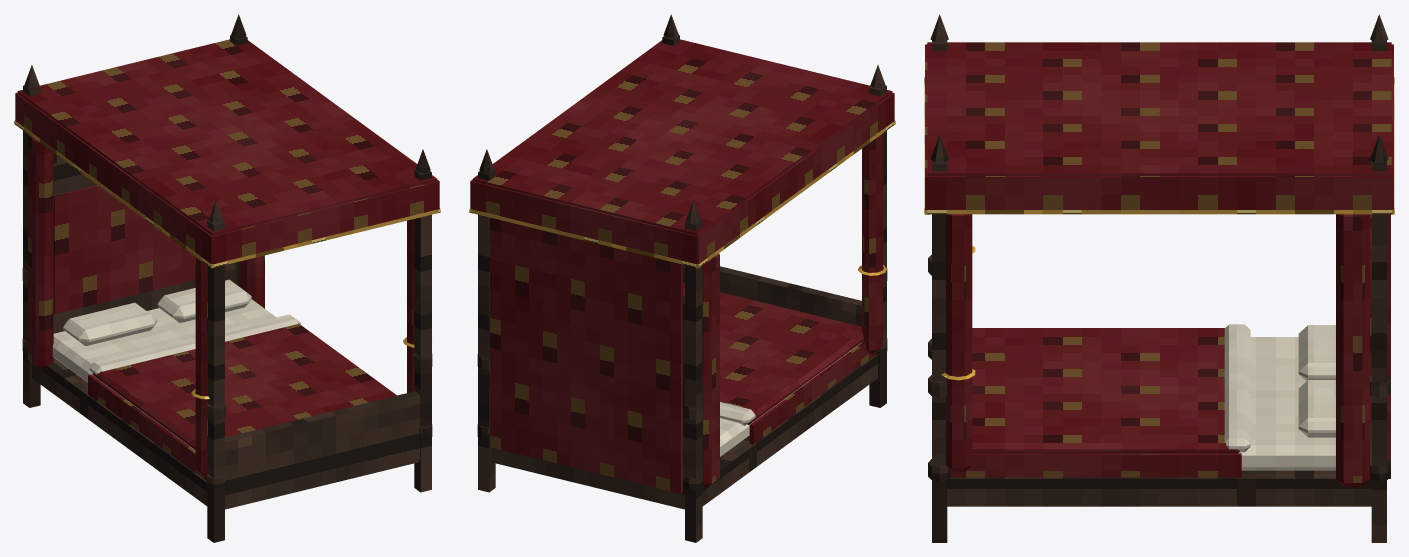
The model's file is canopy_bed.glb.
3 renders of one model, left to right at view 1: azimuth 30°, elevation 25°; view 2: azimuth 150°, elevation 25°; view 3: azimuth 270°, elevation 25°, orthographic. The views are drawn at different scales.
Visible parts, largest first — view 1: body; view 2: body; view 3: body.
Part boxes in pixels (box(x1,y1,x2,y2)): body: box(14, 14, 440, 542); body: box(469, 14, 895, 542); body: box(924, 14, 1394, 542).
Size of the model in its own units: 2.11 by 2.89 by 3.04.
Materials: 4 (4 with a texture image).
